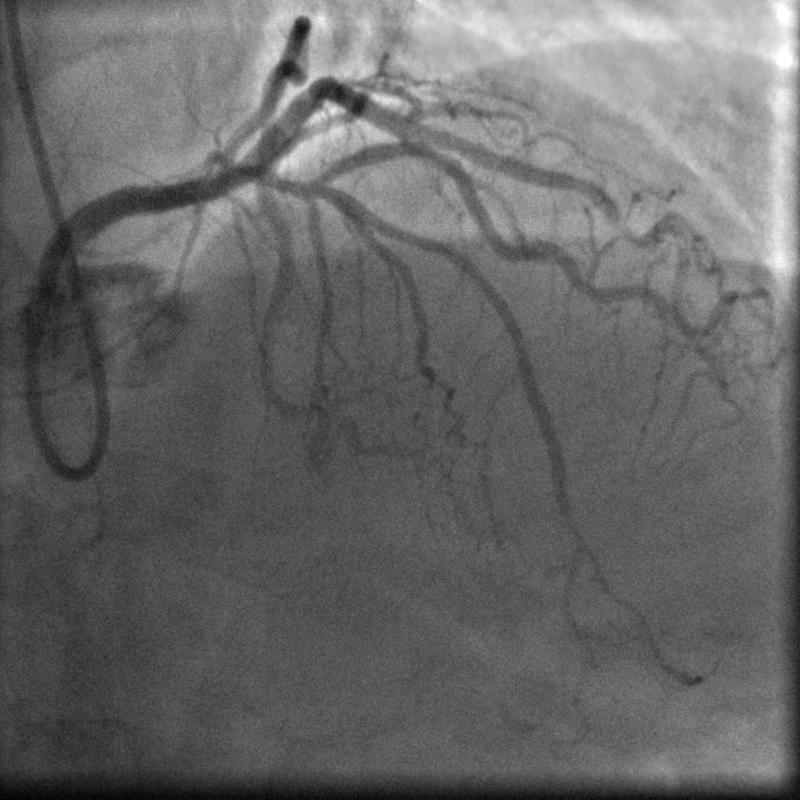Stenosis: (417, 135, 462, 175)
